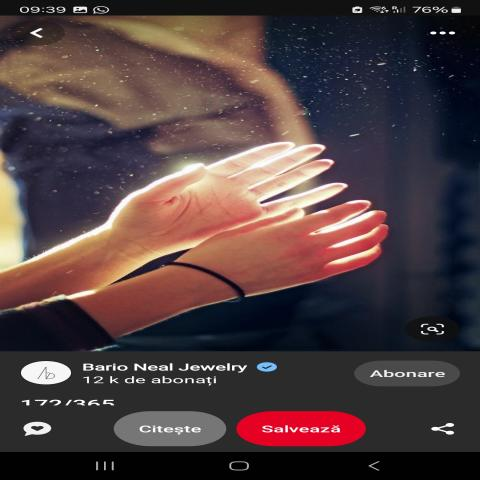hands: (80, 85, 350, 254), (170, 186, 447, 314)
